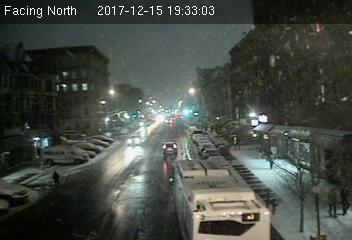bus: (174, 159, 272, 240)
car: (161, 141, 179, 155), (126, 134, 143, 147)
pedestrian: (329, 187, 341, 222)
